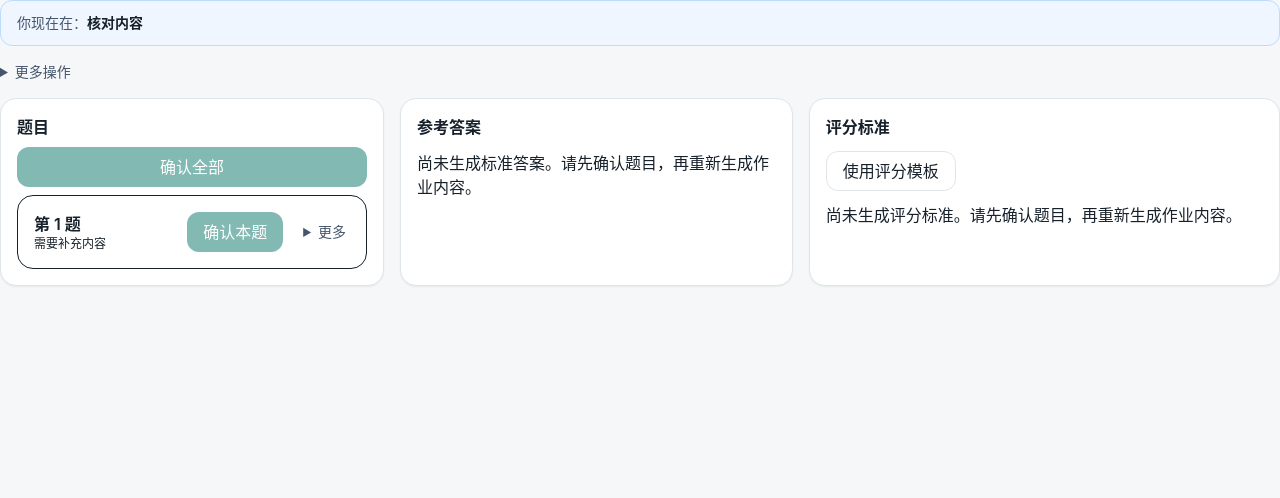
Test case: AnswerRubricGenerationReview Bundle lifecycle › 从现有题目安全请求重新生成本题建议
The width and height of the screenshot is (1280, 498).
Expected: the text "你现在在：" is shown, [17,14,87,31]
Click the heading "更多" at (332, 232), box [318,223,346,240]
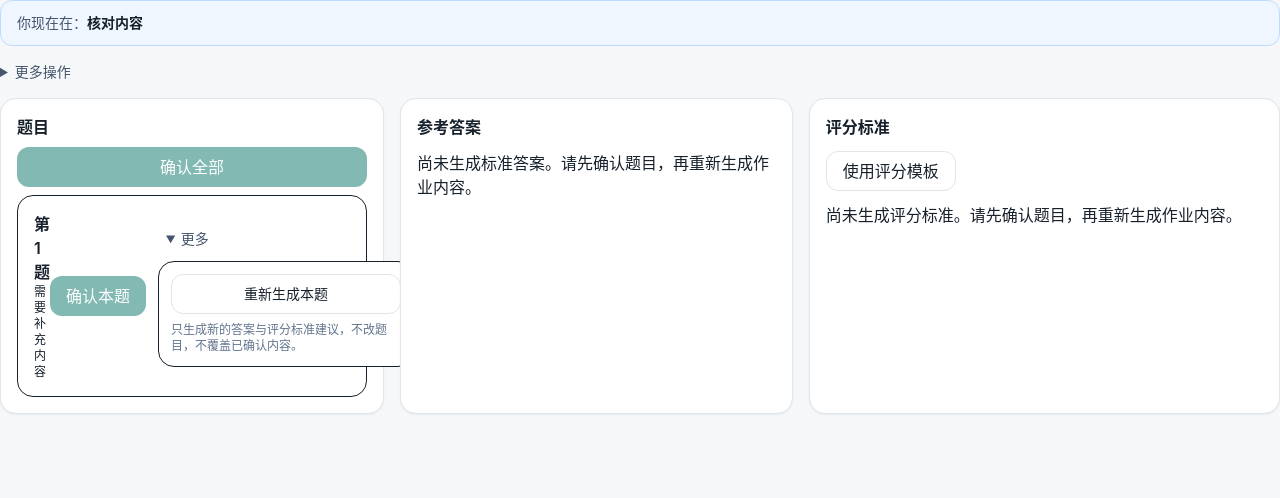
Click the button "重新生成本题" at (286, 294), box [171,274,401,314]
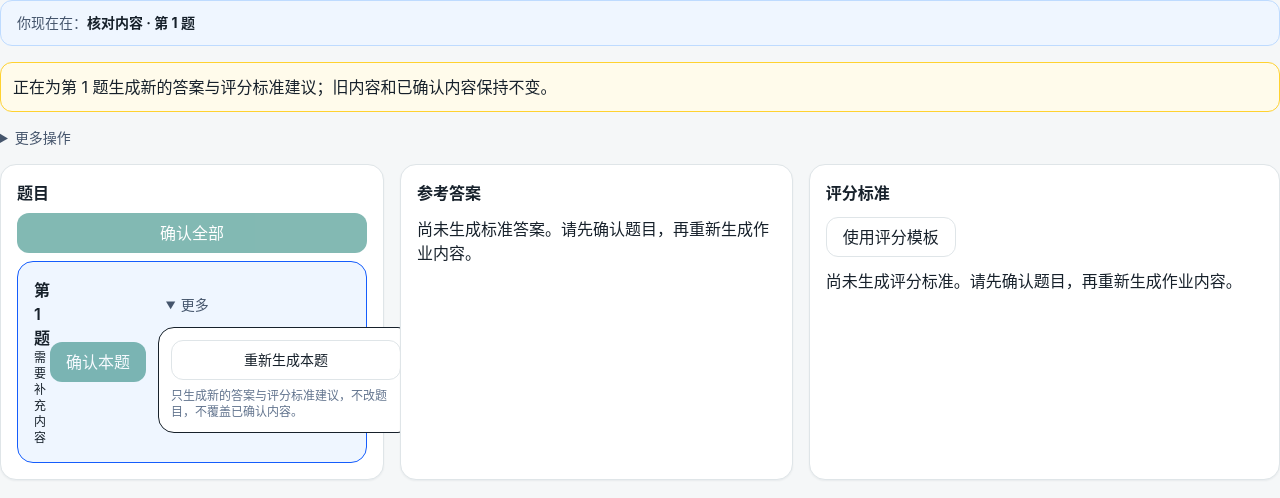
Result: the text "正在为第 1 题生成新的答案与评分标准建议；旧内容和已确认内容保持不变。" is shown at [0,62,1279,112]
